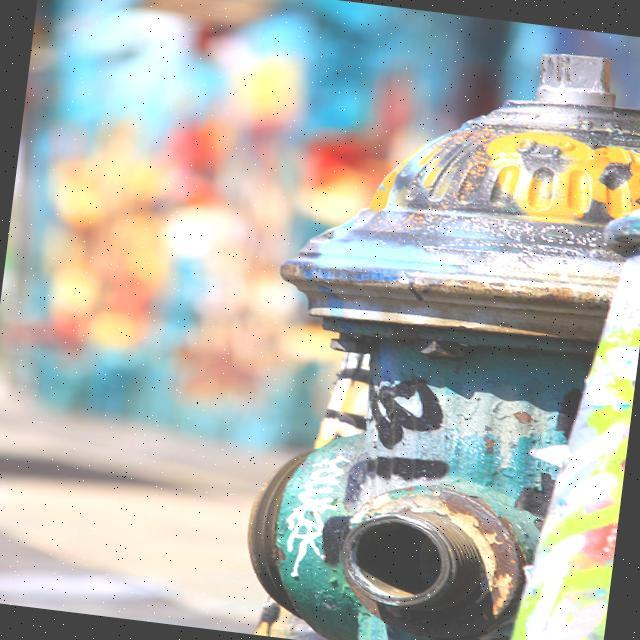fire_hydrant: (231, 20, 640, 640)
